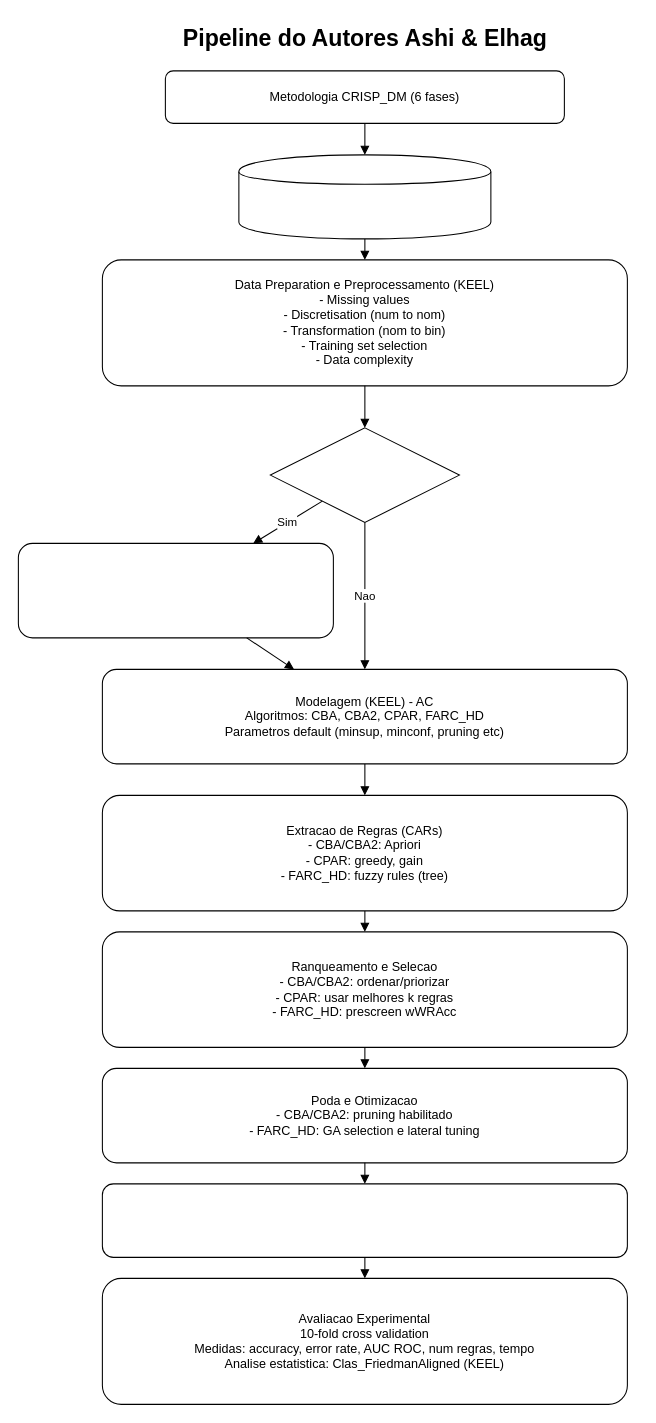
The diagram is 656 pixels wide and 1423 high, and some of its shapes have lost their labels. The shapes that lost their labels are listed below. From the top down, each one's centre as x and y in pixels, then its label:
At [364,196]: "Base de Dados IBM Telecom Churn (Kaggle) 7044 instâncias × 21 atributos".
At [364,474]: "Aplicar Feature Selection?".
At [175,590]: "Feature Selection SBS_IEP_FS Saida: subconjunto de atributos".
At [364,1220]: "Construcao do Classificador Conjunto final de regras".
